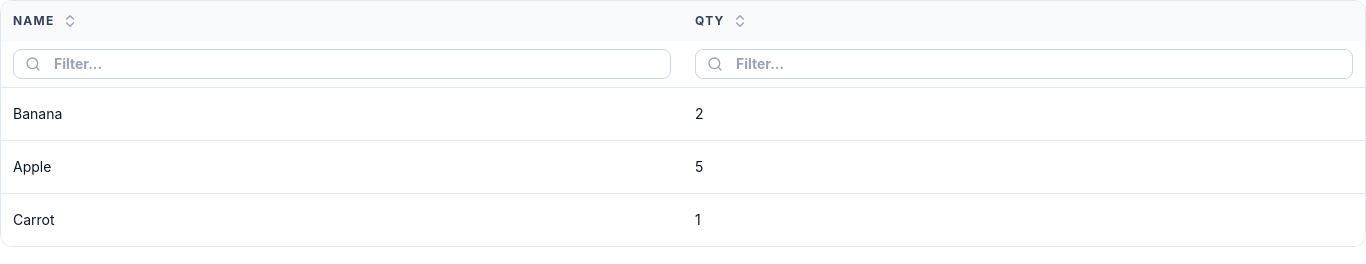
Scenario: DataTable › sorts by column on header click
What coordinates should you click on to do the following:
click the text "Name"
I would click on:
 (34, 21)
Its box is [13, 13, 54, 29].
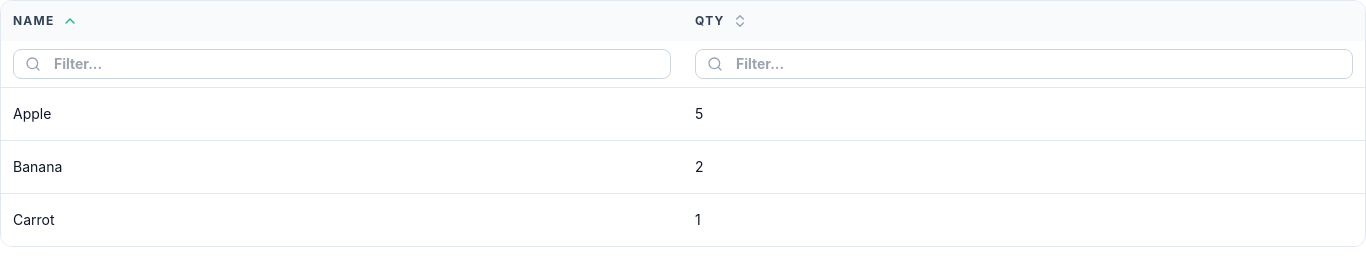
Now the cell "Apple" is shown, box [1, 88, 683, 140]
What coordinates should you click on to do the following:
click the text "Name"
I would click on:
 (34, 21)
Its box is [13, 13, 54, 29].
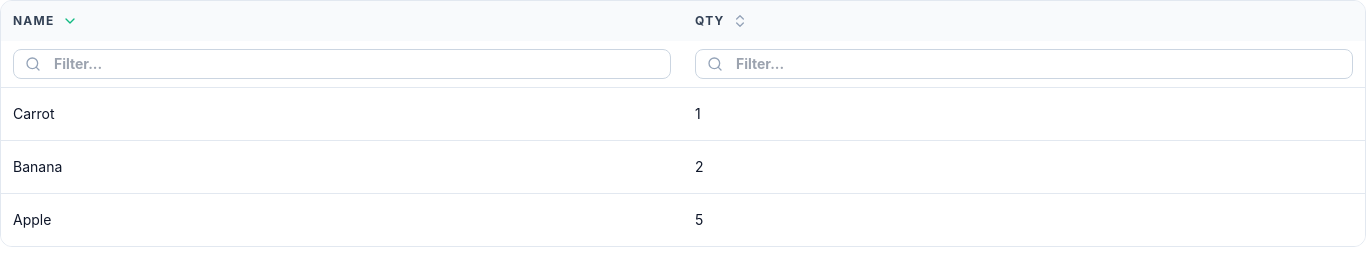
Now the cell "Carrot" is shown, box [1, 88, 683, 140]
